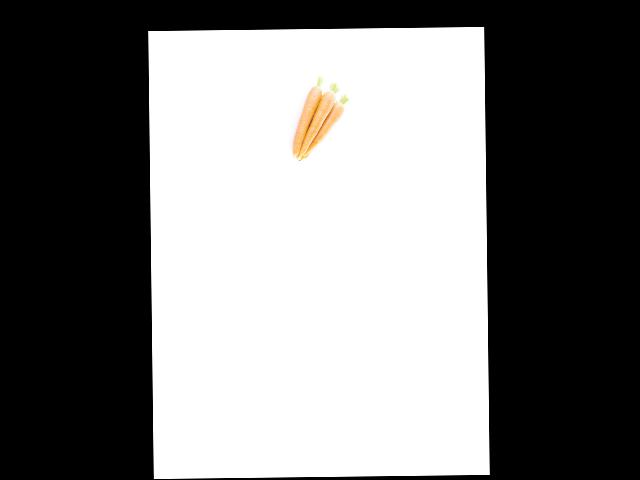carrot: (290, 79, 324, 154)
